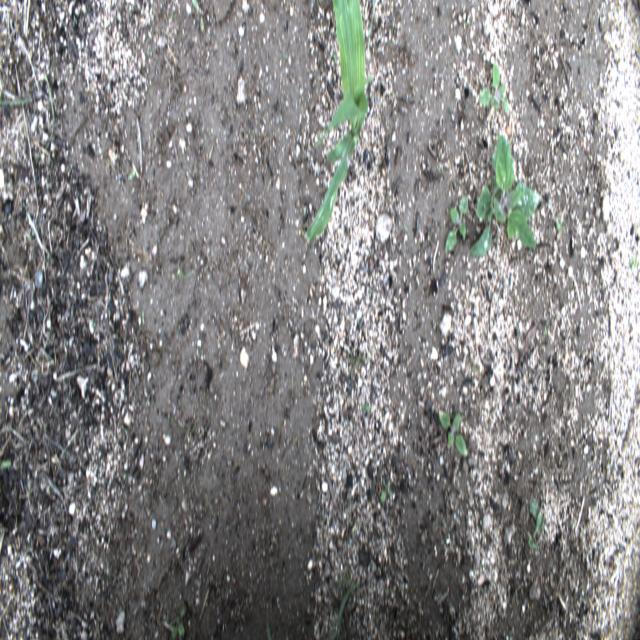crop: (304, 2, 374, 245), (465, 128, 545, 260)
weed: (479, 51, 512, 118), (436, 408, 471, 464), (332, 568, 357, 638), (444, 191, 470, 258), (525, 490, 550, 557), (41, 65, 57, 157), (342, 344, 370, 374), (169, 254, 198, 281), (378, 467, 394, 512), (190, 0, 209, 34), (172, 597, 188, 637), (356, 396, 374, 424), (267, 361, 282, 393), (1, 94, 30, 110), (126, 158, 140, 191), (554, 210, 570, 238), (368, 2, 377, 42), (628, 248, 638, 276), (2, 456, 13, 471)
